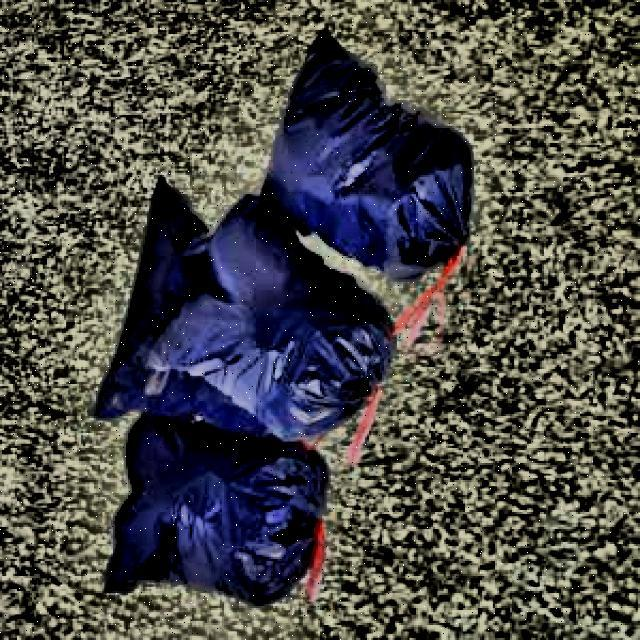Trashbag: (114, 408, 326, 604), (178, 226, 378, 419), (289, 59, 461, 267)
